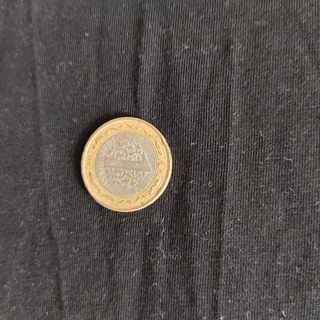1TL: (79, 115, 173, 213)
